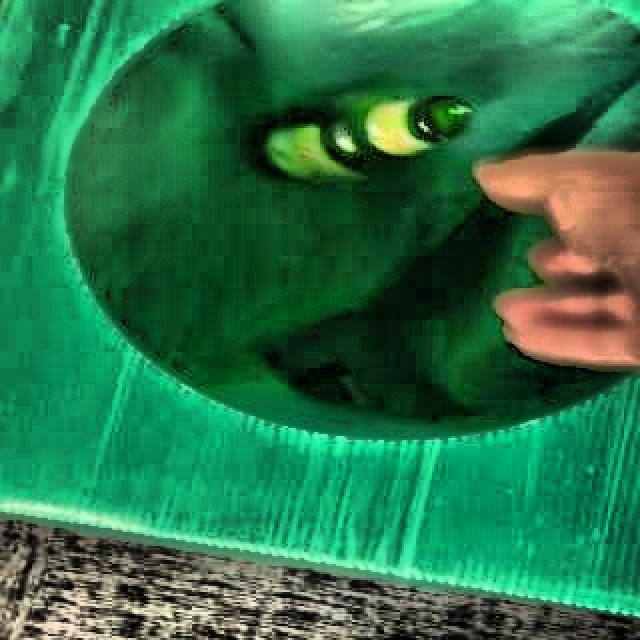glass: (259, 94, 472, 180)
